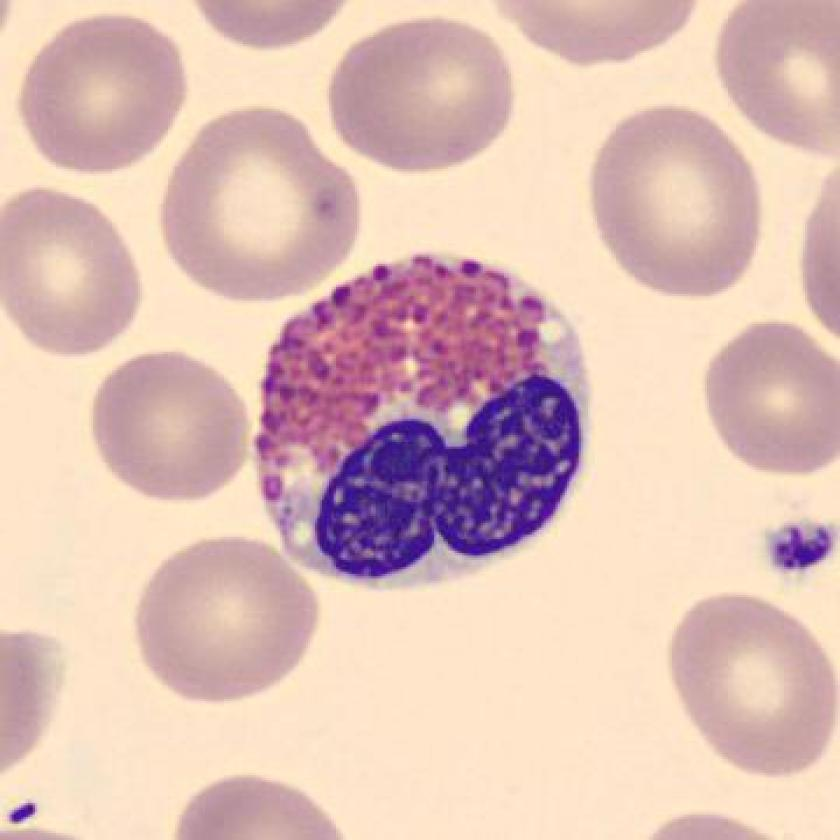eosinophil: (246, 239, 603, 612)
